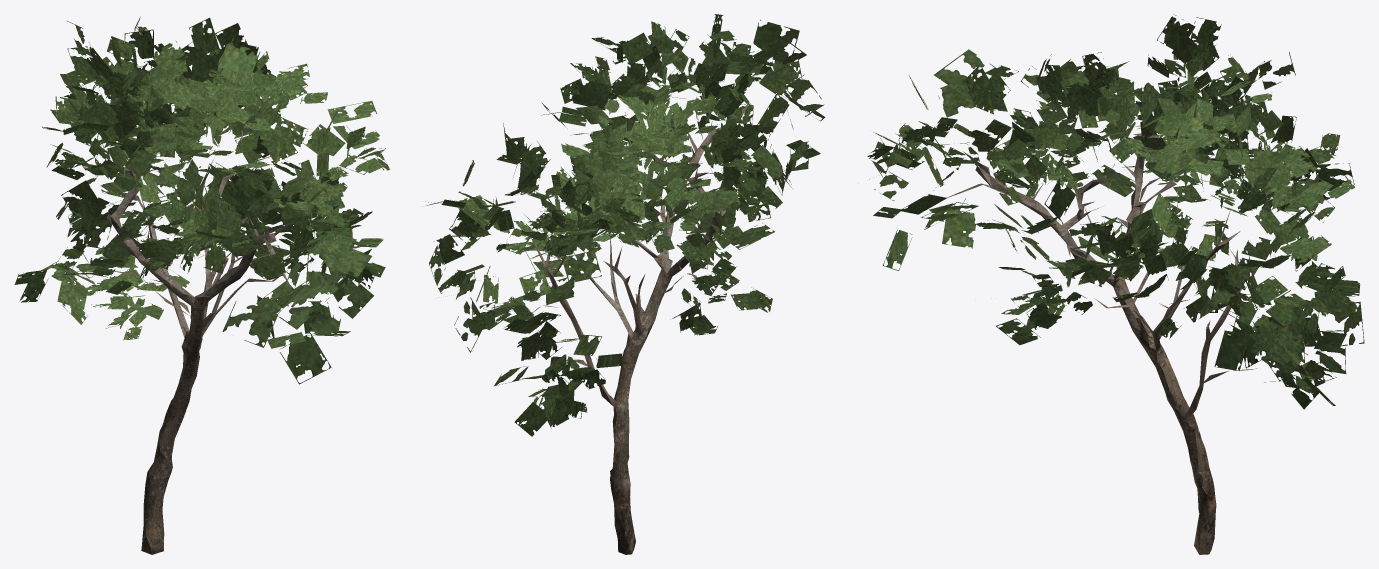
The model's file is tree-small-broadleaf.glb.
3 renders of one model, left to right at view 1: azimuth 30°, elevation 25°; view 2: azimuth 150°, elevation 25°; view 3: azimuth 270°, elevation 25°, orthographic. The views are drawn at different scales.
Visible parts, largest first — view 1: tree-small-broadleaf_LOD1; view 2: tree-small-broadleaf_LOD1; view 3: tree-small-broadleaf_LOD1.
Boxes of the visible parts, x1,y1,x2,y2 form: tree-small-broadleaf_LOD1: (14, 16, 390, 554); tree-small-broadleaf_LOD1: (425, 14, 825, 554); tree-small-broadleaf_LOD1: (867, 14, 1364, 554).
Bounding box in the file's own units: 2.95 × 4.56 × 4.23.
3 materials, 3 textured.
